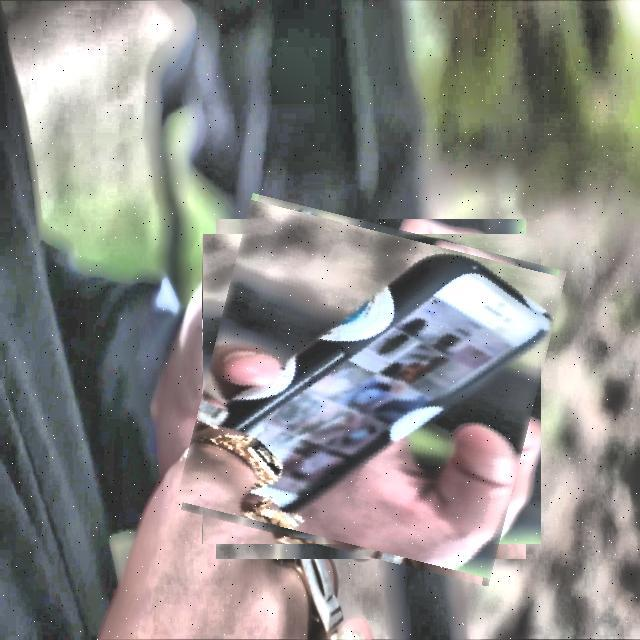Phone: (192, 210, 550, 569)
